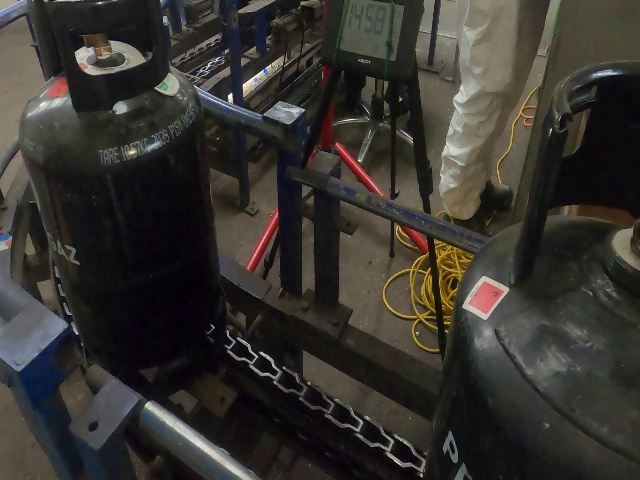gas_bottle: (0, 0, 637, 478)
